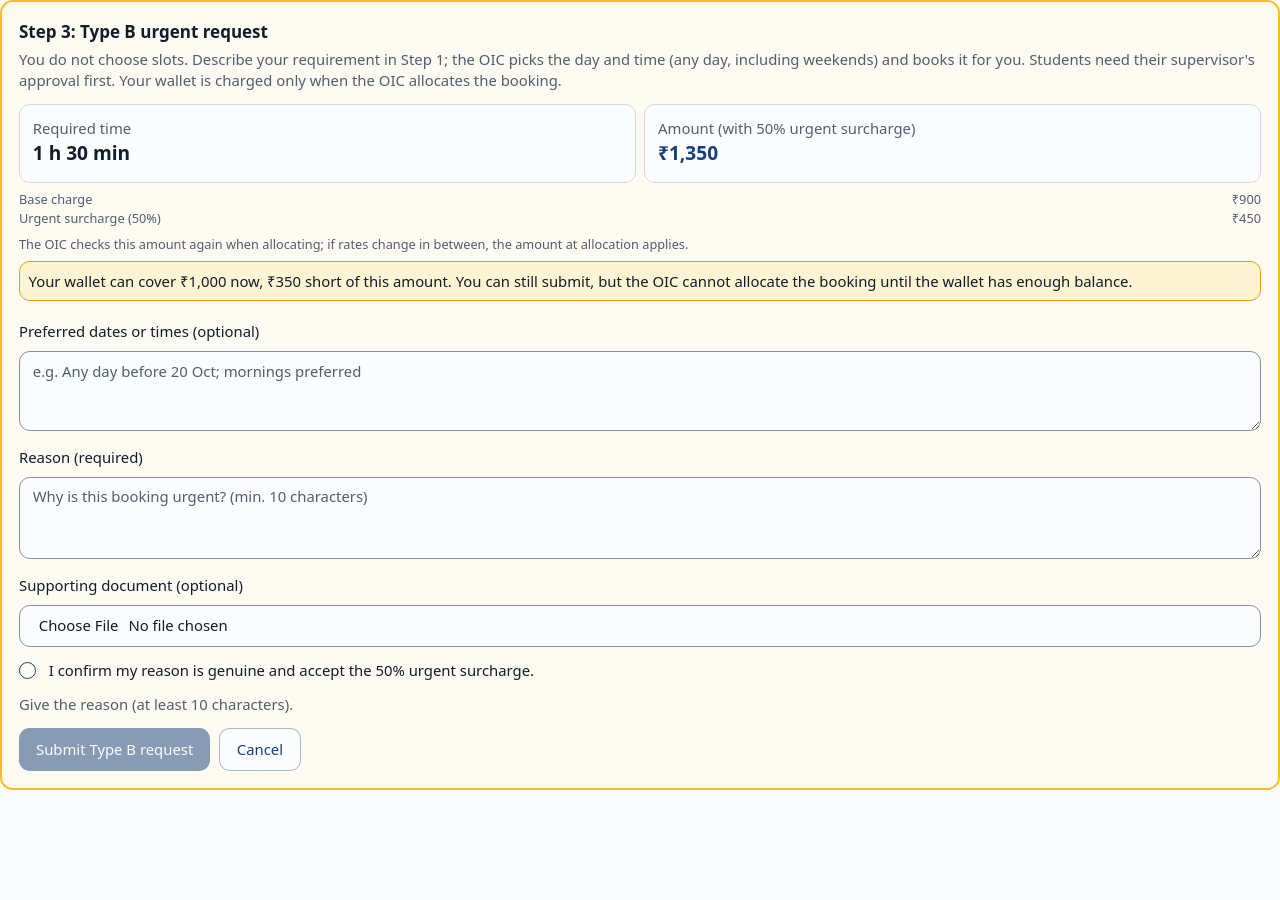
Scenario: Type B urgent request panel (no slot selection) › warns (without blocking) when the wallet cannot cover the amount
Expected: the message shows "350 short", [28, 271, 1132, 291]
Type "Reviewer deadline next week" into the text box labelled "Reason (required)" at (640, 518), box [19, 477, 1261, 559]
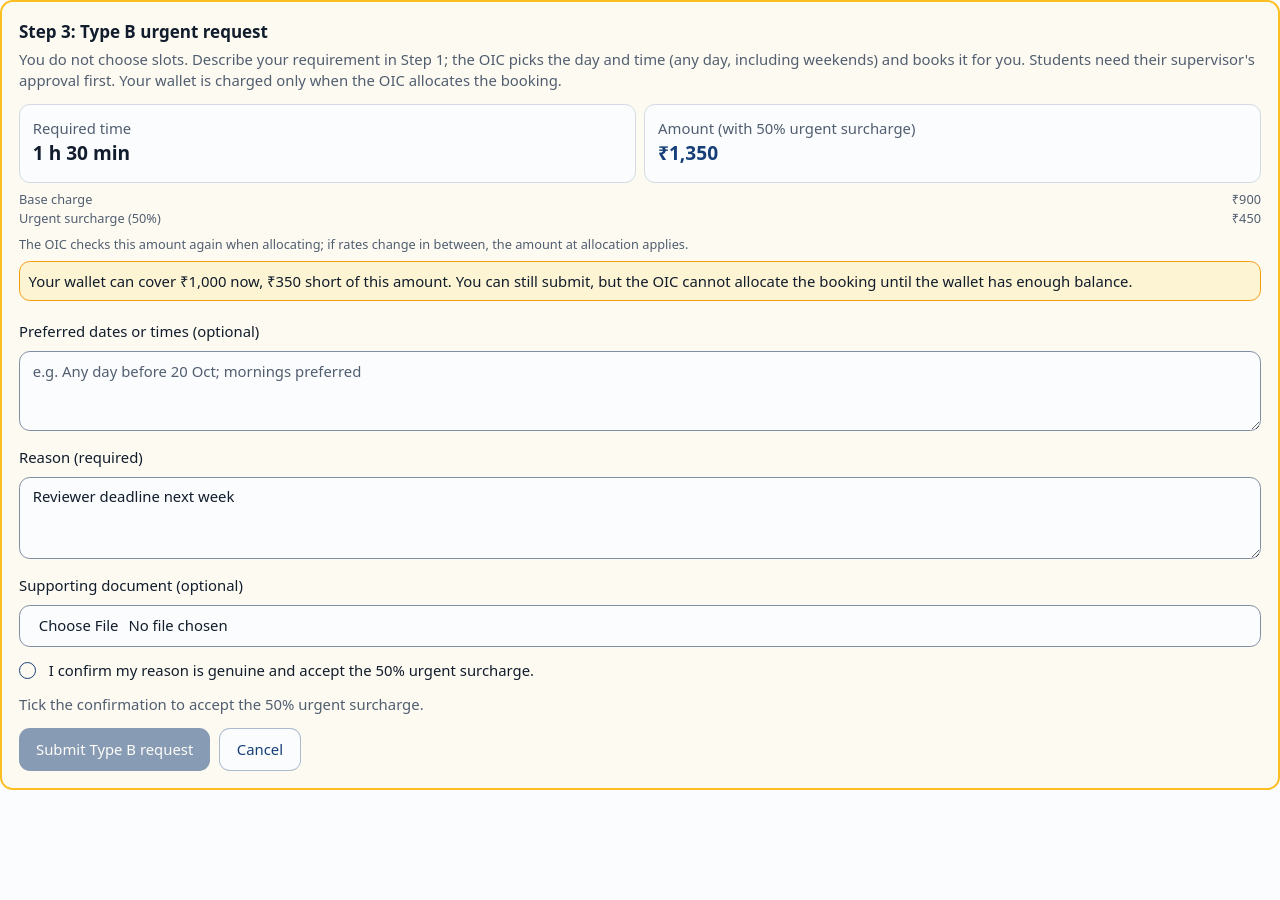
Click the checkbox at (28, 671), box [19, 662, 36, 679]
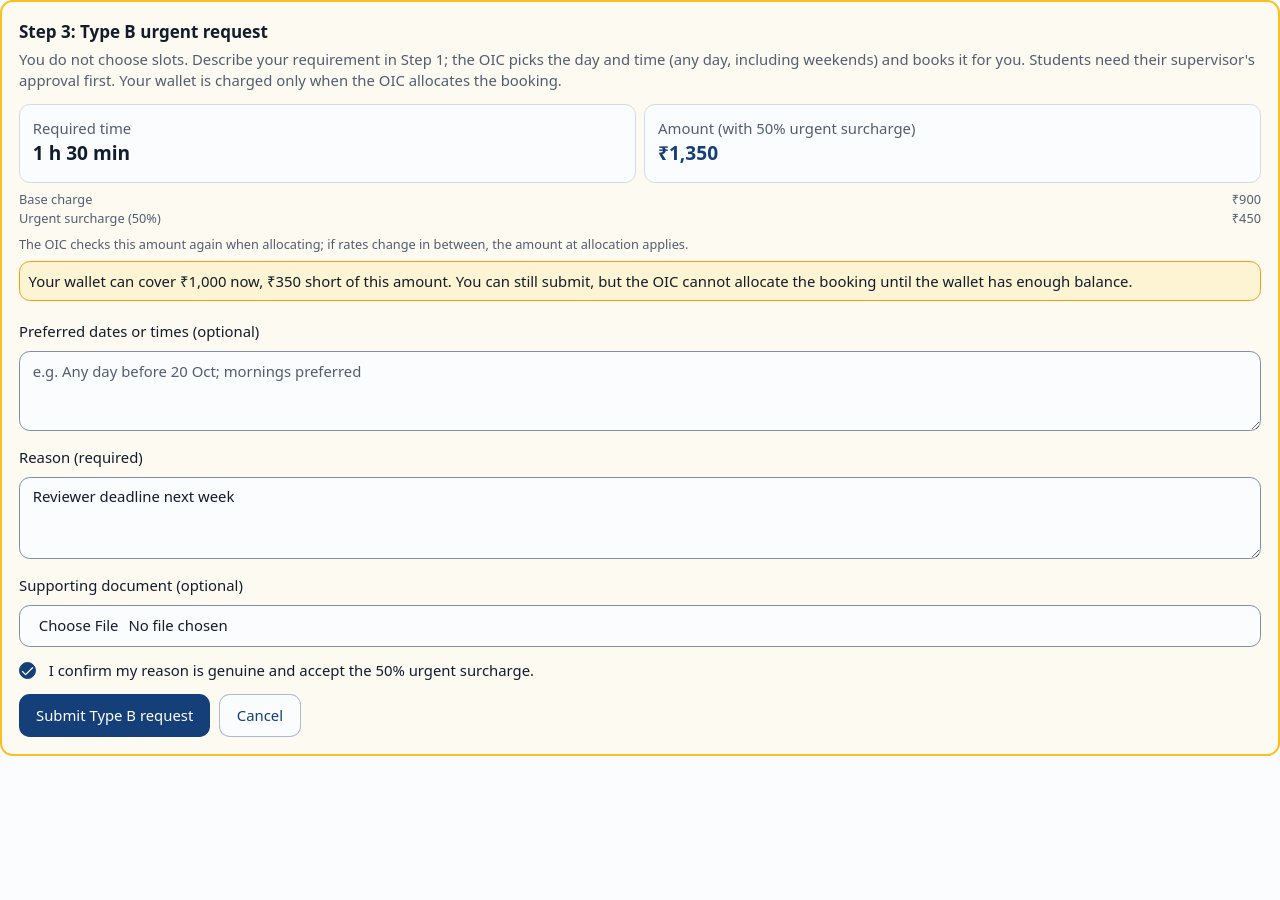
Expected: the button "Submit Type B request" is enabled, [19, 694, 210, 736]
